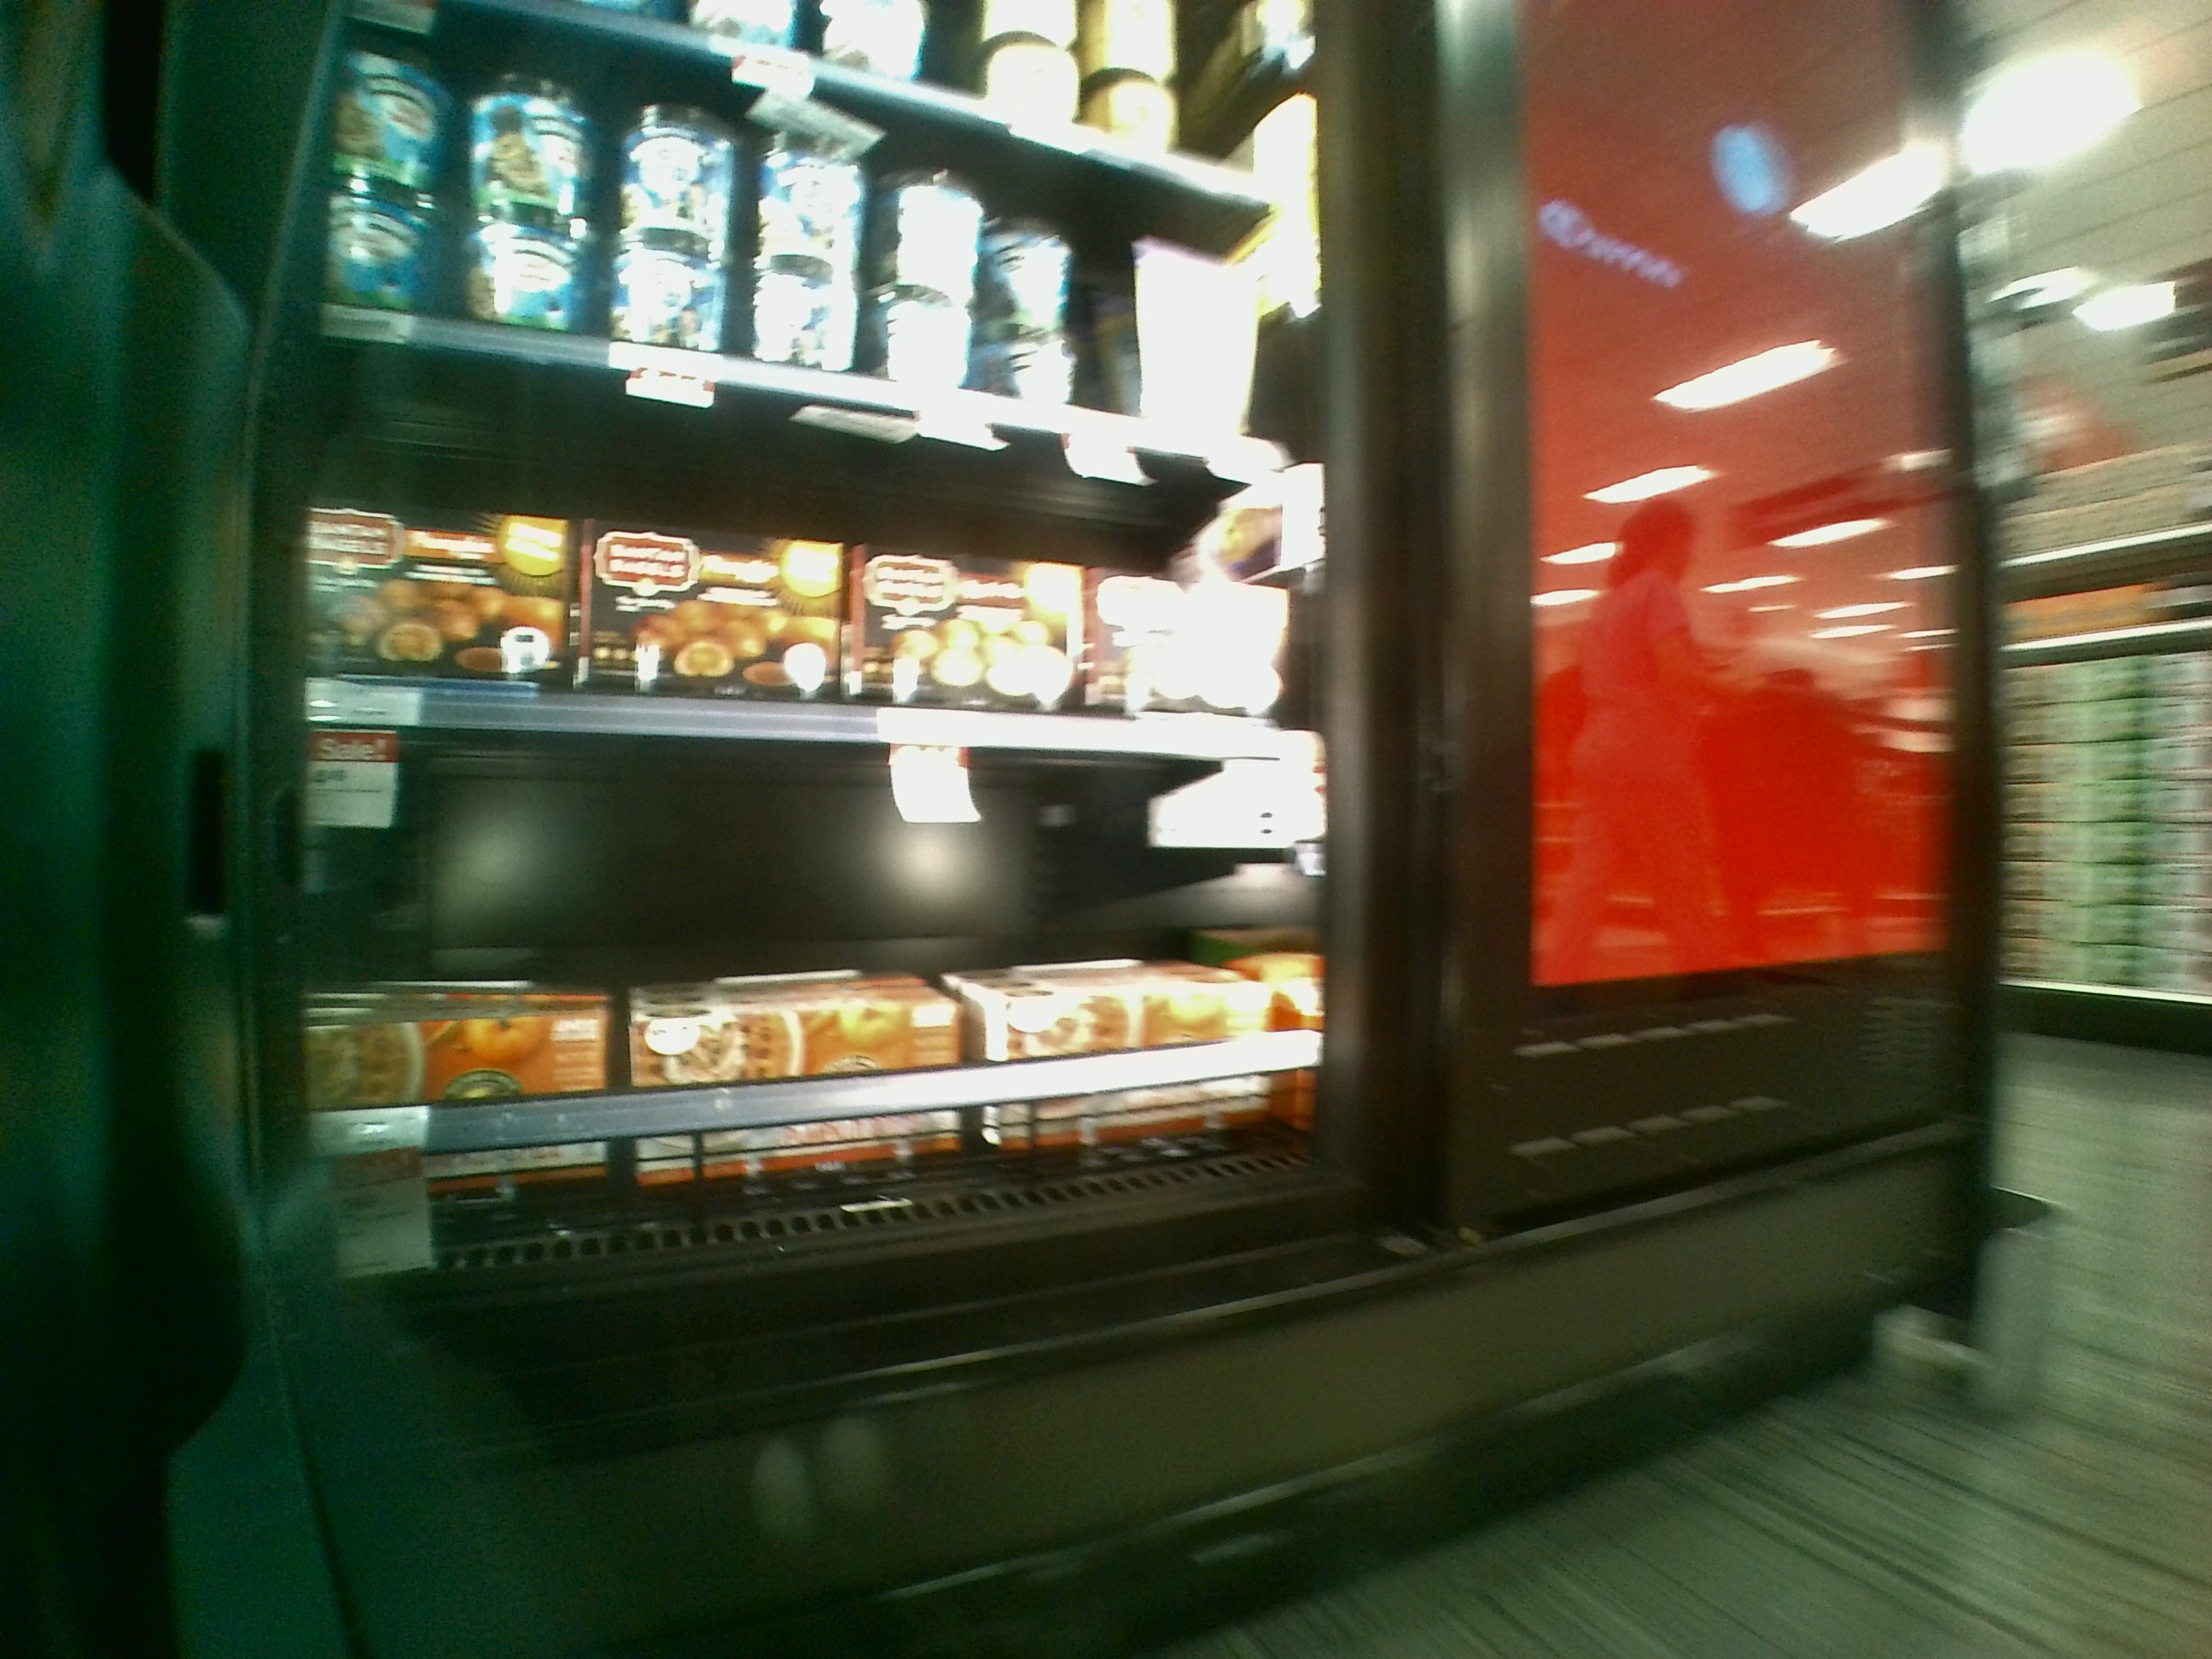shelf: (308, 704, 1336, 1223), (324, 342, 1285, 735)
